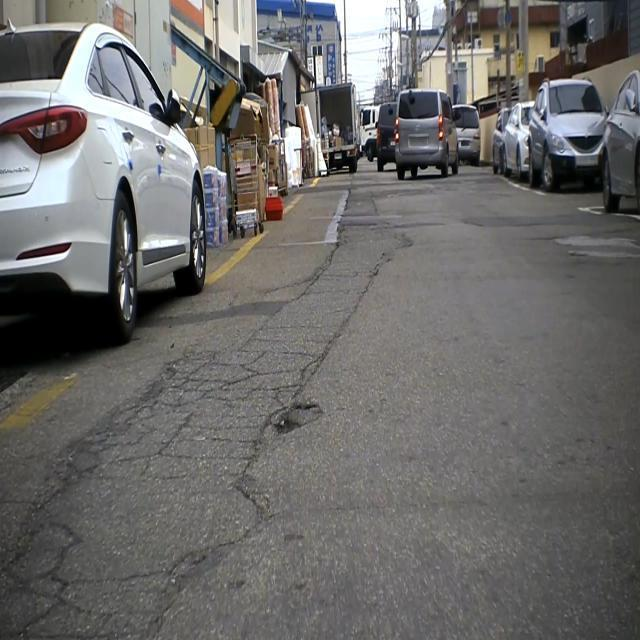pothole: (253, 398, 327, 451)
